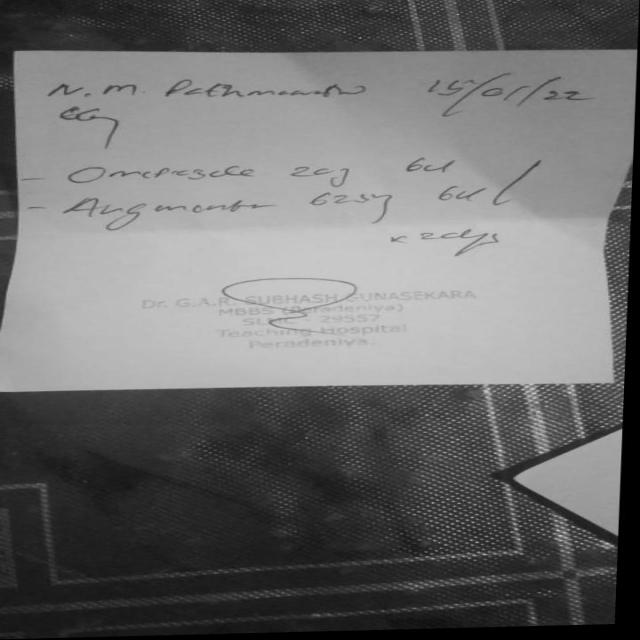Prescription: (62, 185, 511, 268), (65, 156, 465, 190)
